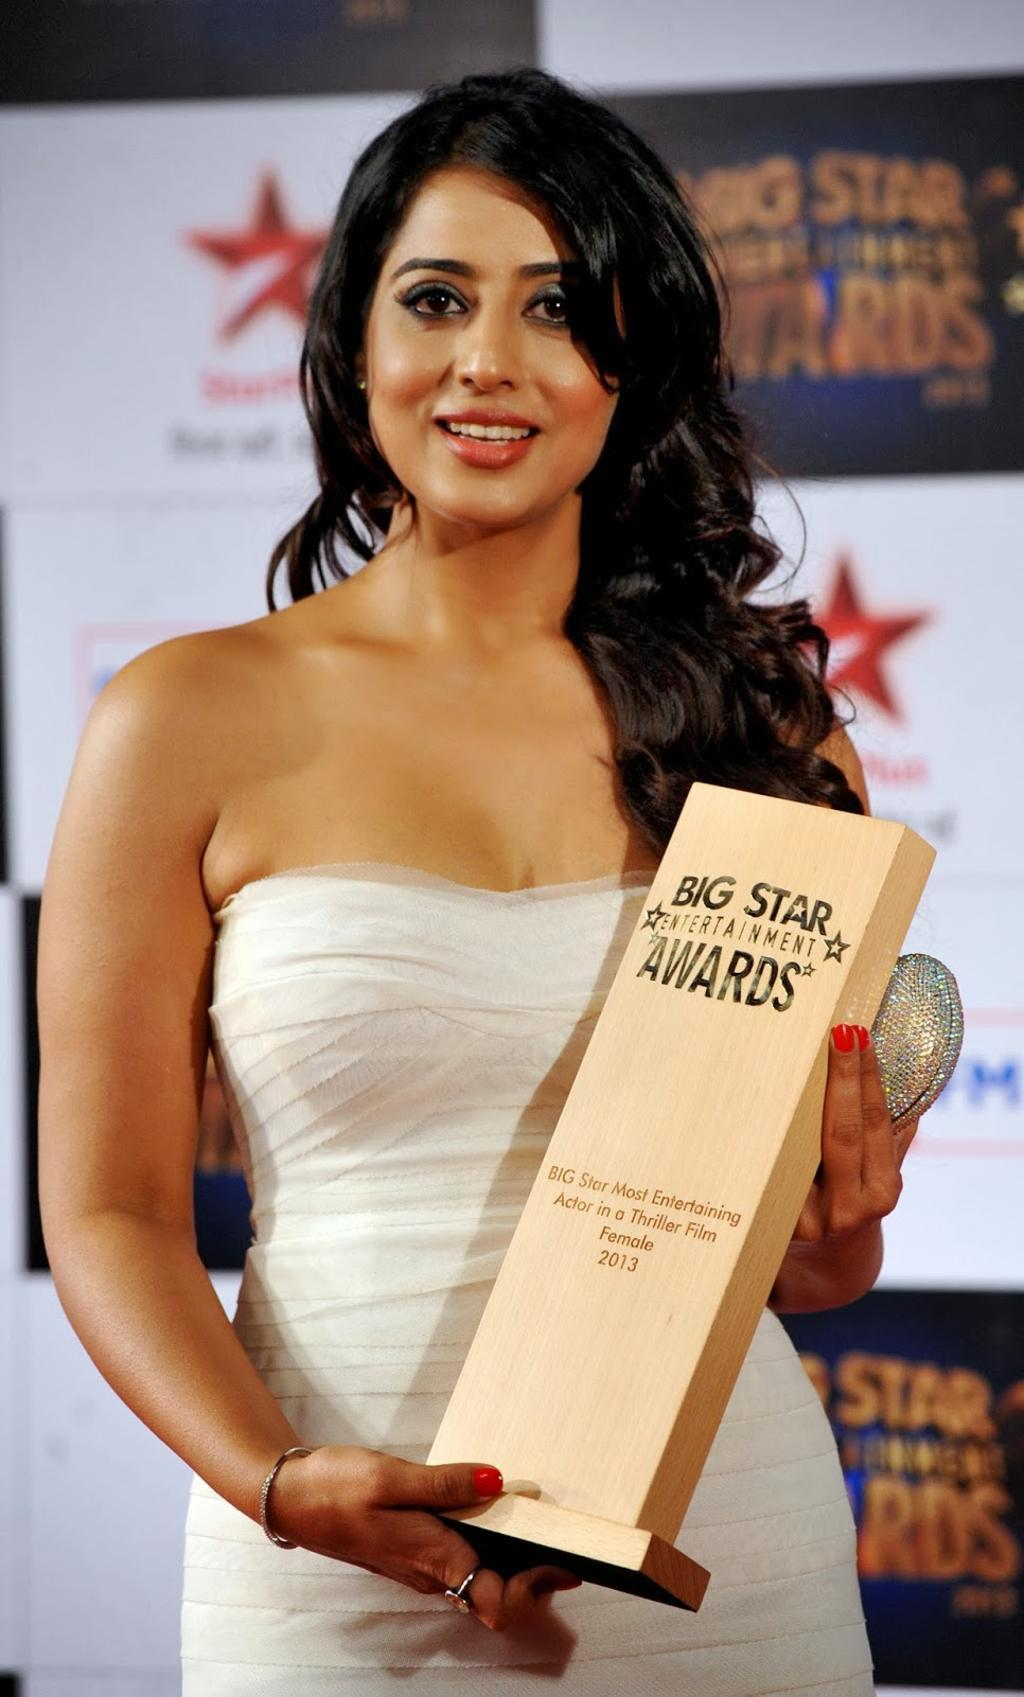face: (362, 137, 630, 518)
